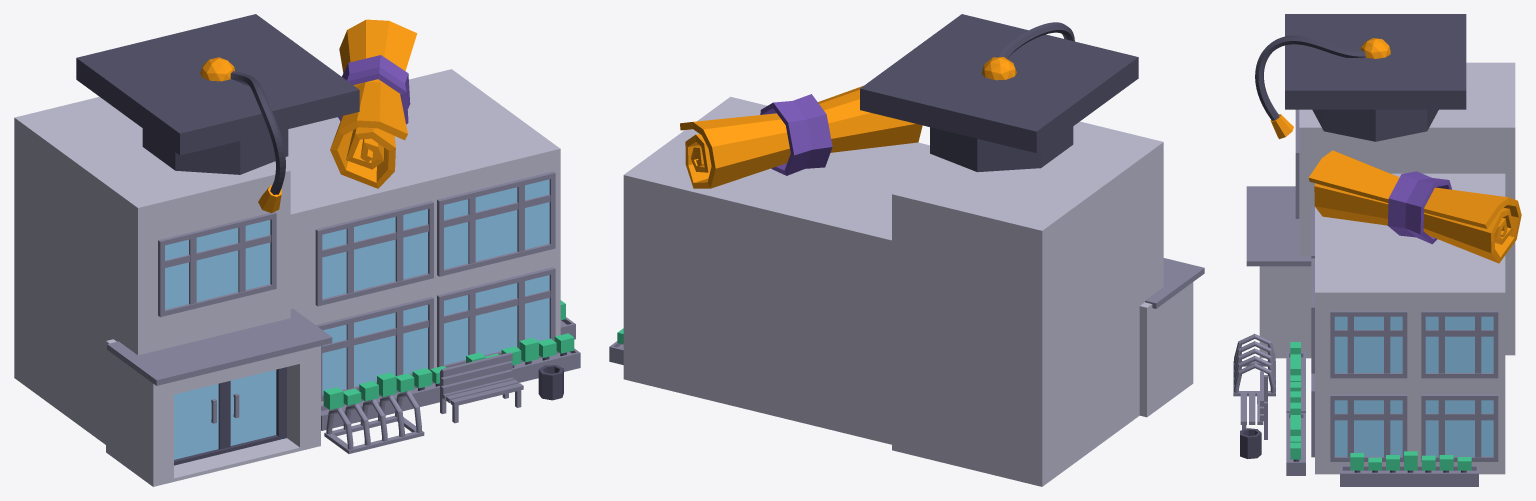
File: school.glb
3 views of the same model, side by side, from view 1: azimuth 30°, elevation 25°; view 2: azimuth 150°, elevation 25°; view 3: azimuth 270°, elevation 25° (orthographic). The views are drawn at different scales.
Visible parts, largest first — view 1: Cube.623, Cube.622, Cube.621, Cube.651, Plane.031, Cube.630, Cube.624, Cube.627, Cube.636, Cube.1083, Cube.633, Circle.252 (+24 smaller); view 2: Cube.623, Cube.622, Cube.621, Plane.031, Cube.651, Circle.252, Circle.253, Cube.1083, NurbsPath, Icosphere.015; view 3: Cube.622, Cube.621, Cube.623, Plane.031, Cube.651, Cube.1083, Cube.639, Cube.643, Cube.648, Cube.645, Circle.252, Circle.253 (+23 smaller).
Boxes of the visible parts, x1,y1,x2,y2 form: Cube.623: [14, 97, 290, 444]; Cube.622: [285, 69, 560, 405]; Cube.621: [76, 14, 359, 155]; Cube.651: [106, 339, 320, 486]; Plane.031: [330, 19, 417, 188]; Cube.630: [437, 171, 555, 276]; Cube.624: [158, 212, 276, 317]; Cube.627: [315, 201, 433, 306]; Cube.636: [437, 267, 555, 367]; Cube.1083: [107, 309, 332, 385]; Cube.633: [316, 296, 433, 401]; Circle.252: [142, 128, 288, 174]; Cube.623: [892, 121, 1163, 486]; Cube.622: [623, 96, 940, 444]; Cube.621: [860, 14, 1138, 152]; Plane.031: [680, 86, 922, 188]; Cube.651: [1139, 282, 1193, 417]; Circle.252: [930, 126, 1073, 172]; Circle.253: [760, 94, 832, 175]; Cube.1083: [1145, 258, 1204, 308]; NurbsPath: [997, 22, 1074, 58]; Icosphere.015: [981, 57, 1016, 80]; Cube.622: [1315, 173, 1505, 474]; Cube.621: [1285, 14, 1466, 109]; Cube.623: [1299, 62, 1515, 355]; Plane.031: [1308, 150, 1521, 263]; Cube.651: [1259, 266, 1311, 358]; Cube.1083: [1246, 186, 1311, 266]; Cube.639: [1330, 311, 1407, 378]; Cube.643: [1421, 311, 1498, 378]; Cube.648: [1421, 394, 1498, 461]; Cube.645: [1330, 394, 1407, 461]; Circle.252: [1312, 109, 1438, 141]; Circle.253: [1387, 171, 1451, 244].
Size of the model in its own units: 6.41 by 4.54 by 3.87.
